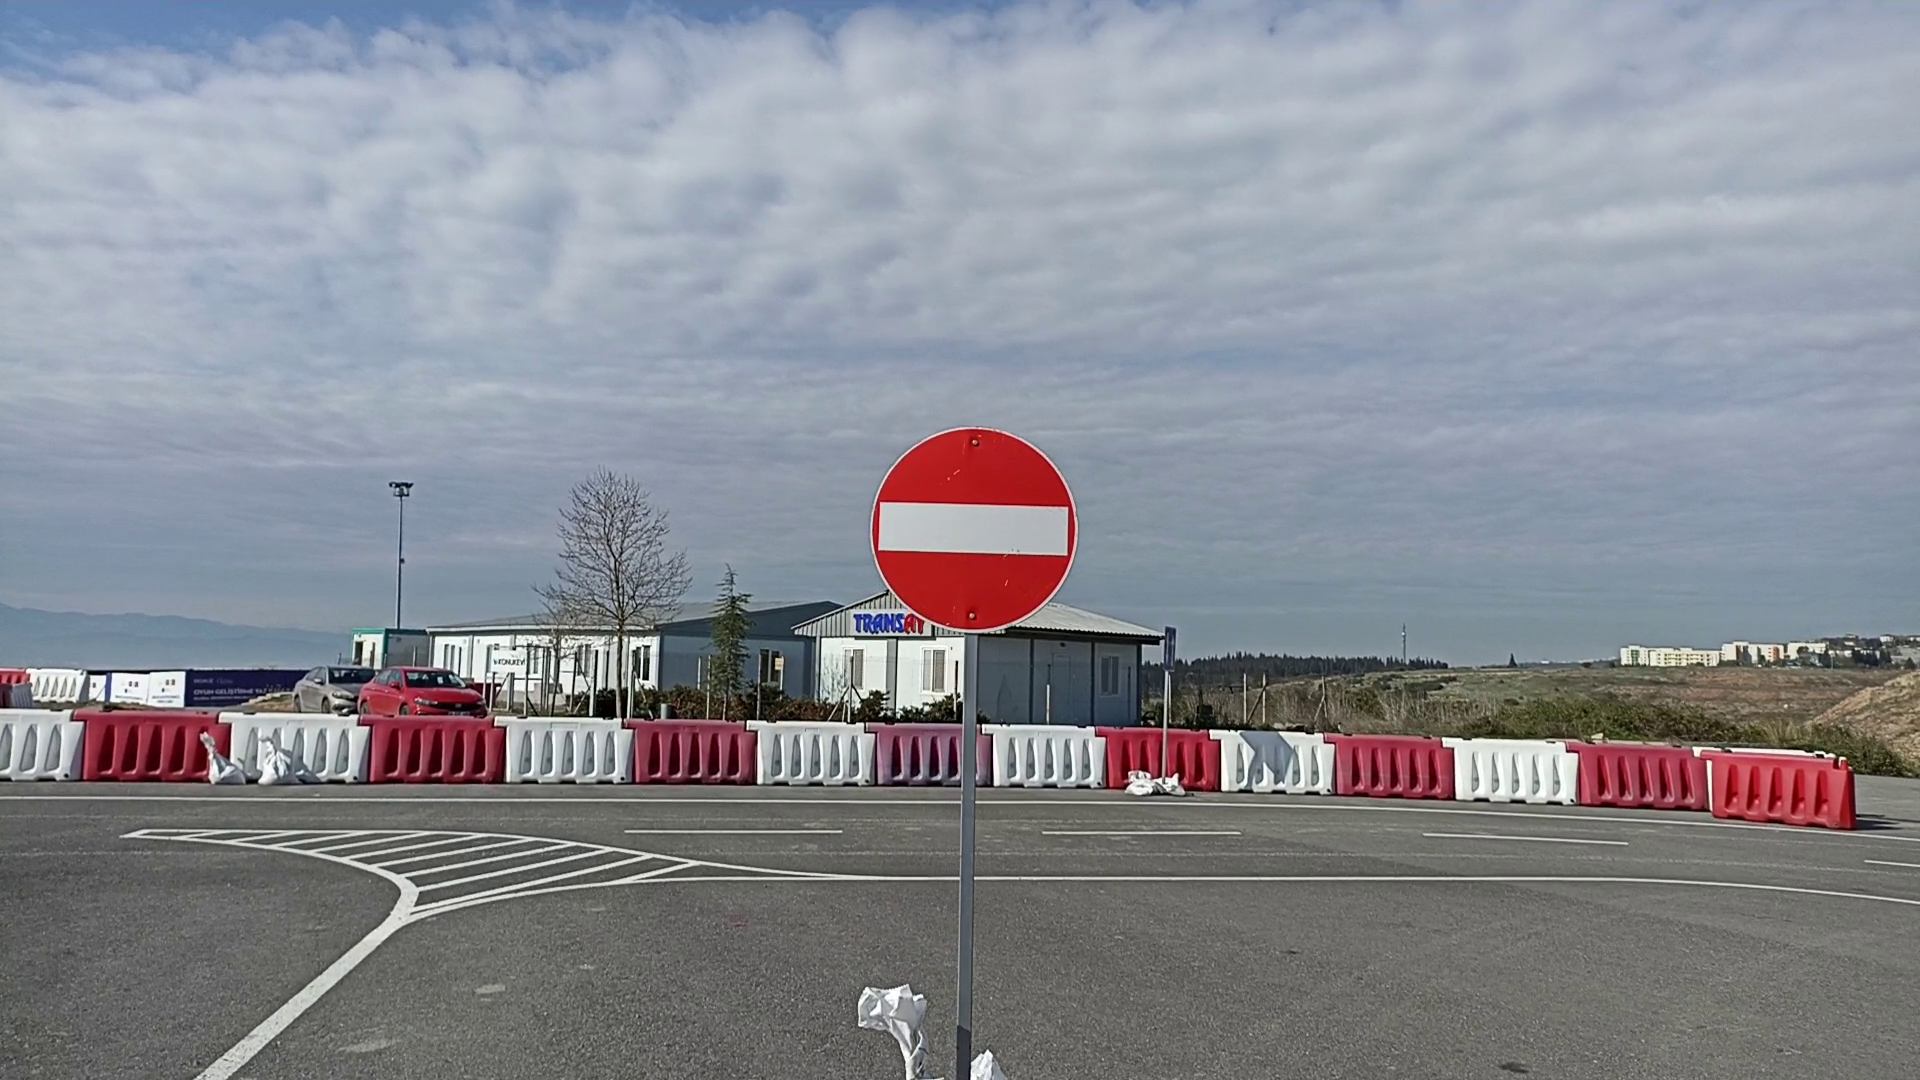noentryway: (864, 421, 1084, 636)
